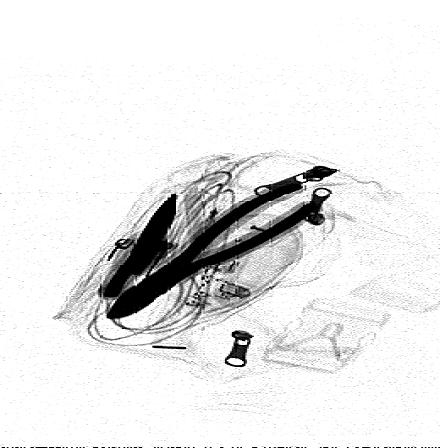Pliers: (97, 179, 330, 322), (96, 193, 186, 302)
